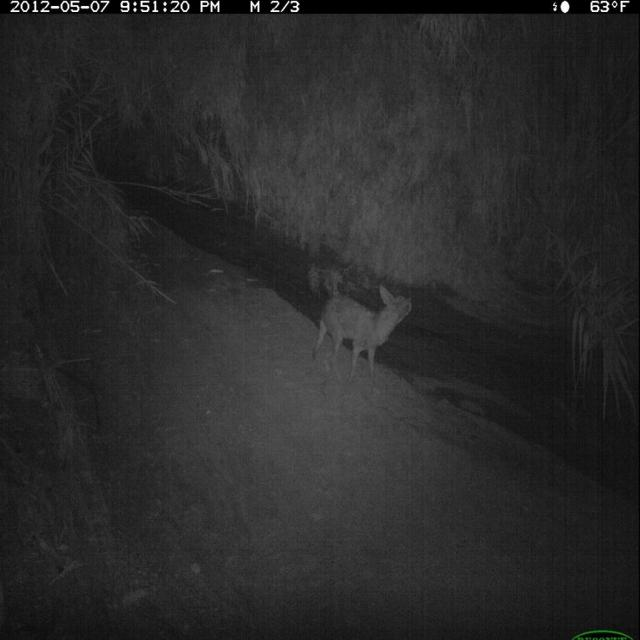coyote: (310, 281, 417, 403)
